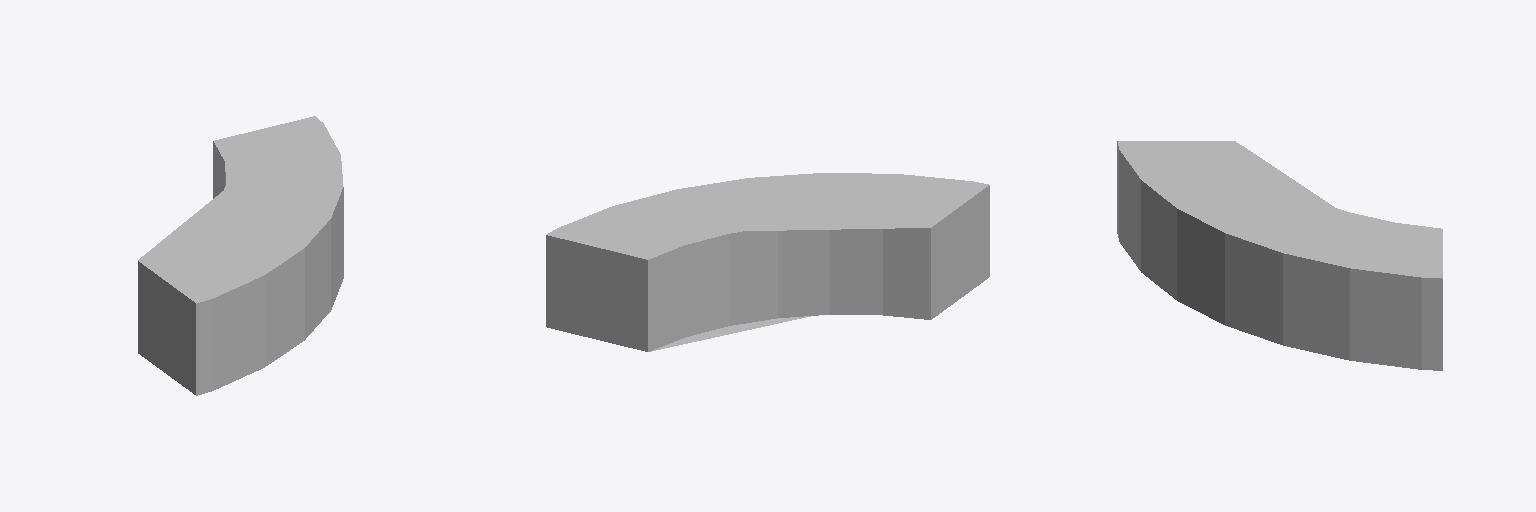
File: asharp.obj
3 views of the same model, side by side, from view 1: azimuth 30°, elevation 25°; view 2: azimuth 150°, elevation 25°; view 3: azimuth 270°, elevation 25° (orthographic).
Parts seen in each view (by area): view 1: Cylinder.011_Cylinder.013; view 2: Cylinder.011_Cylinder.013; view 3: Cylinder.011_Cylinder.013.
Part boxes in pixels (bbox=[...]): Cylinder.011_Cylinder.013: bbox=[138, 116, 343, 395]; Cylinder.011_Cylinder.013: bbox=[546, 173, 989, 351]; Cylinder.011_Cylinder.013: bbox=[1117, 141, 1442, 370].
Size of the model in its own units: 0.3366 by 0.1055 by 0.3366.